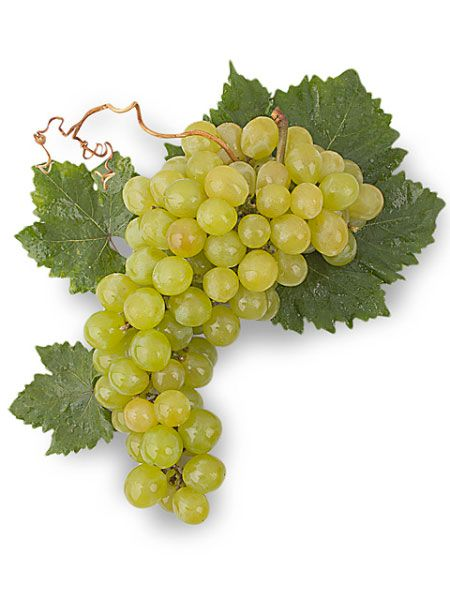Green grapes: (79, 102, 396, 529)
